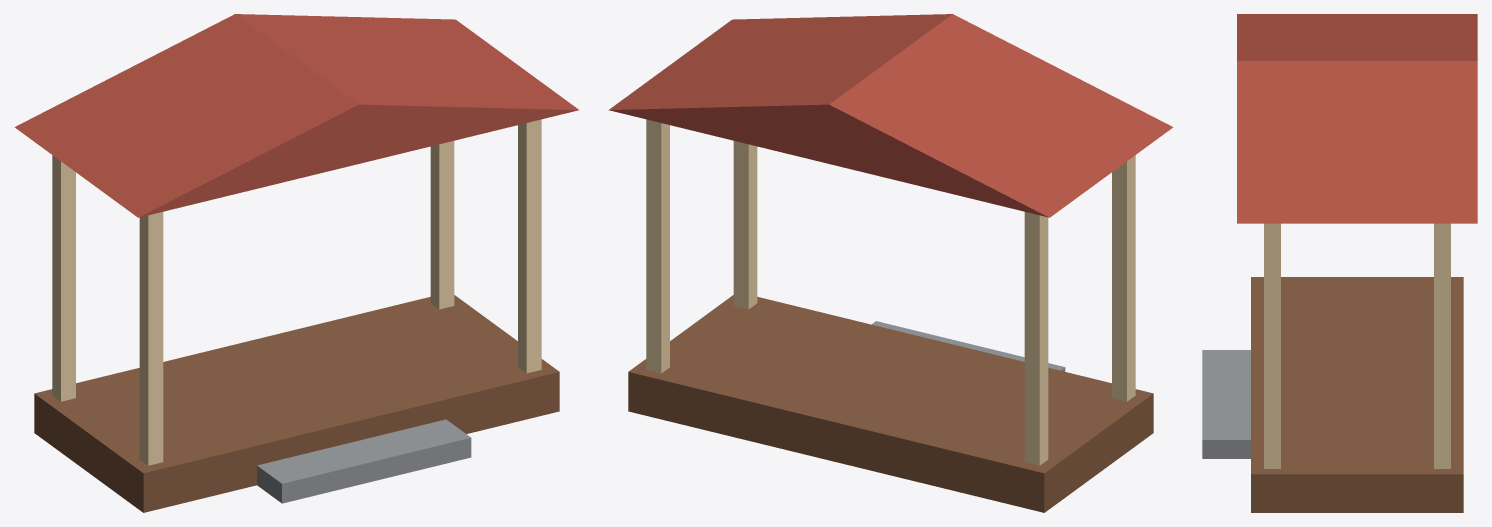
File: upgrade_porch.glb
The picture shows the model from 3 angles, left to right: view 1: azimuth 30°, elevation 25°; view 2: azimuth 150°, elevation 25°; view 3: azimuth 270°, elevation 25°; orthographic projection. The views are drawn at different scales.
Visible parts, largest first — view 1: gable_roof, deck, step, post, post.002, post.001, post.003; view 2: gable_roof, deck, post.001, post.003, post, post.002, step; view 3: gable_roof, deck, step, post.002, post.003.
Boxes of the visible parts, x1=… form: gable_roof: x1=14, y1=14, x2=579, y2=217; deck: x1=34, y1=295, x2=559, y2=512; step: x1=257, y1=419, x2=471, y2=503; post: x1=139, y1=212, x2=163, y2=465; post.002: x1=518, y1=119, x2=541, y2=373; post.001: x1=52, y1=155, x2=75, y2=401; post.003: x1=430, y1=141, x2=454, y2=309; gable_roof: x1=608, y1=14, x2=1173, y2=217; deck: x1=628, y1=295, x2=1153, y2=512; post.001: x1=1024, y1=212, x2=1048, y2=465; post.003: x1=646, y1=119, x2=669, y2=373; post: x1=1112, y1=155, x2=1135, y2=401; post.002: x1=733, y1=141, x2=757, y2=309; step: x1=871, y1=321, x2=1065, y2=371; gable_roof: x1=1237, y1=14, x2=1477, y2=223; deck: x1=1251, y1=277, x2=1463, y2=512; step: x1=1202, y1=350, x2=1250, y2=458; post.002: x1=1264, y1=223, x2=1280, y2=468; post.003: x1=1434, y1=223, x2=1450, y2=468.
Bounding box in the file's own units: 3.5 × 2.75 × 1.95.
